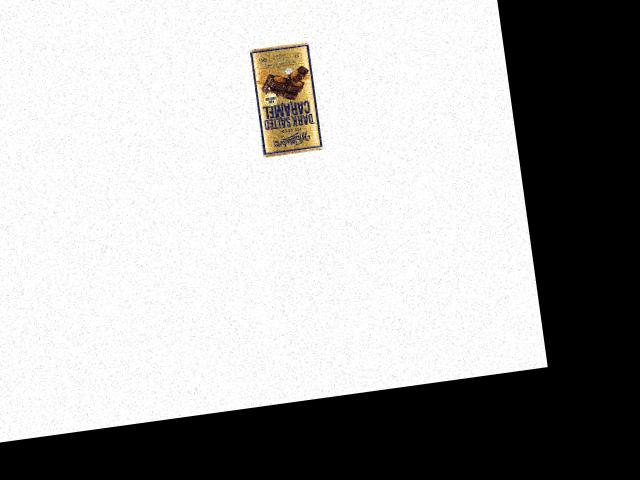chocolate: (244, 39, 324, 157)
